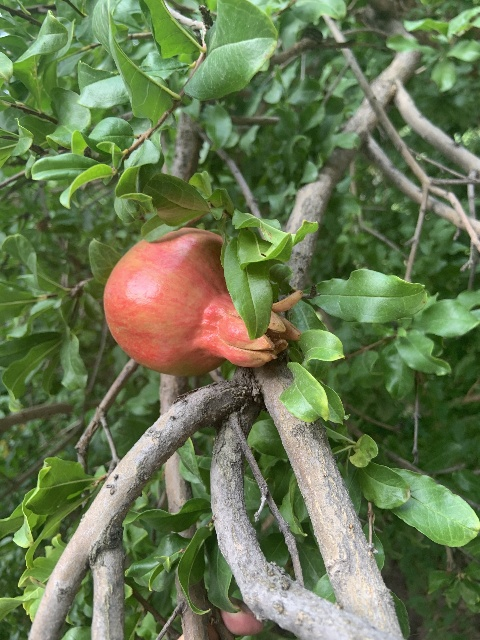ripe: (103, 226, 300, 376)
